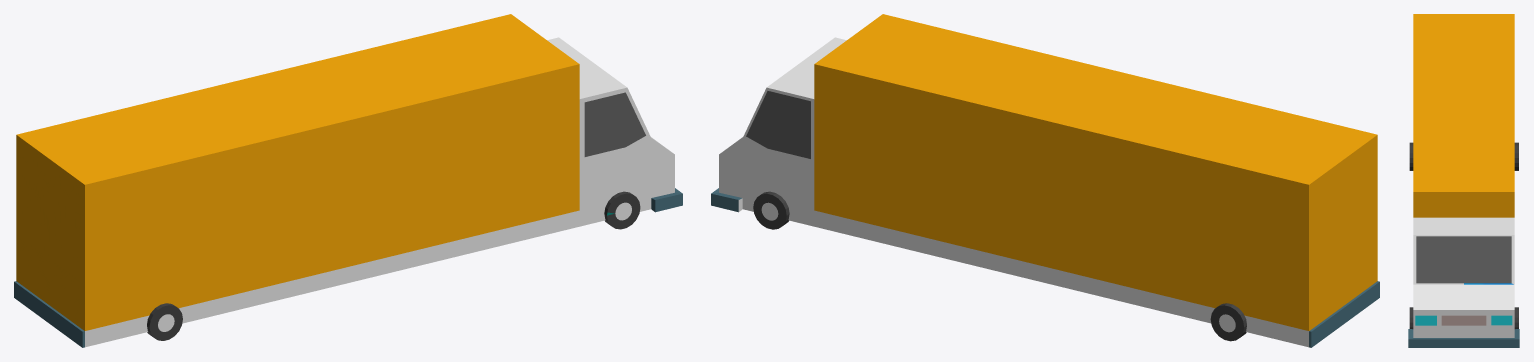
The model's file is Kamionce4x1Orange.fbx.
3 renders of one model, left to right at view 1: azimuth 30°, elevation 25°; view 2: azimuth 150°, elevation 25°; view 3: azimuth 270°, elevation 25°, orthographic. The views are drawn at different scales.
Visible parts, largest first — view 1: Car_08_4; view 2: Car_08_4; view 3: Car_08_4.
Part boxes in pixels (x1,y1,x2,y2): Car_08_4: [14, 14, 682, 347]; Car_08_4: [711, 14, 1379, 347]; Car_08_4: [1408, 14, 1519, 347].
Size of the model in its own units: 3.99 by 1.1 by 0.8755.
Materials: 1 (1 with a texture image).
